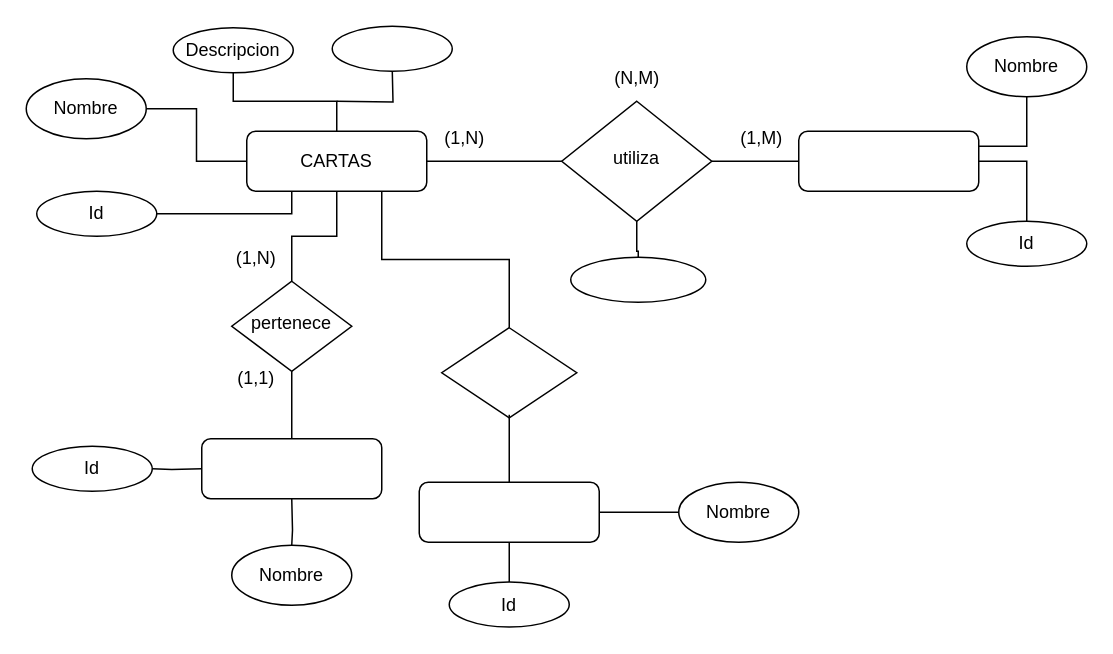
This 1113x654 diagram has some shape labels left out. The centre of each missing label's shape, as x and y in pixels:
cantidadMana: (637,279)
corresponde: (508,372)
EXPANSIONES: (291,468)
Imagen: (391,48)
TIPO_CARTA: (508,511)
TIPO_MANA: (888,160)
